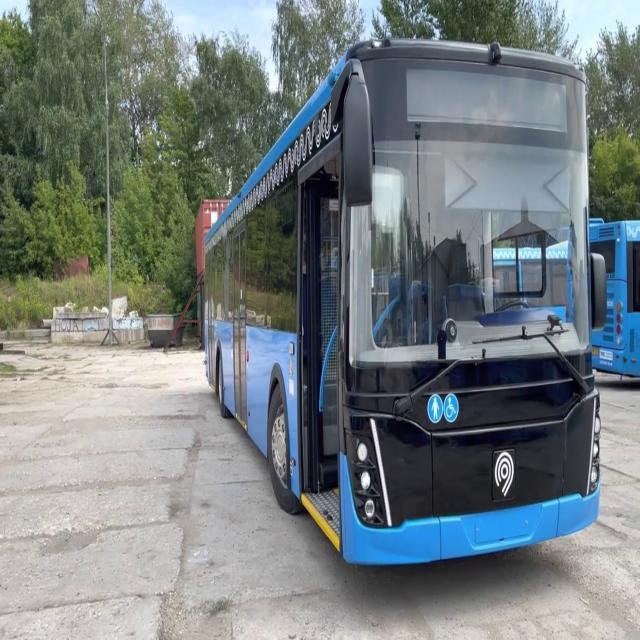bus: (200, 33, 606, 573)
